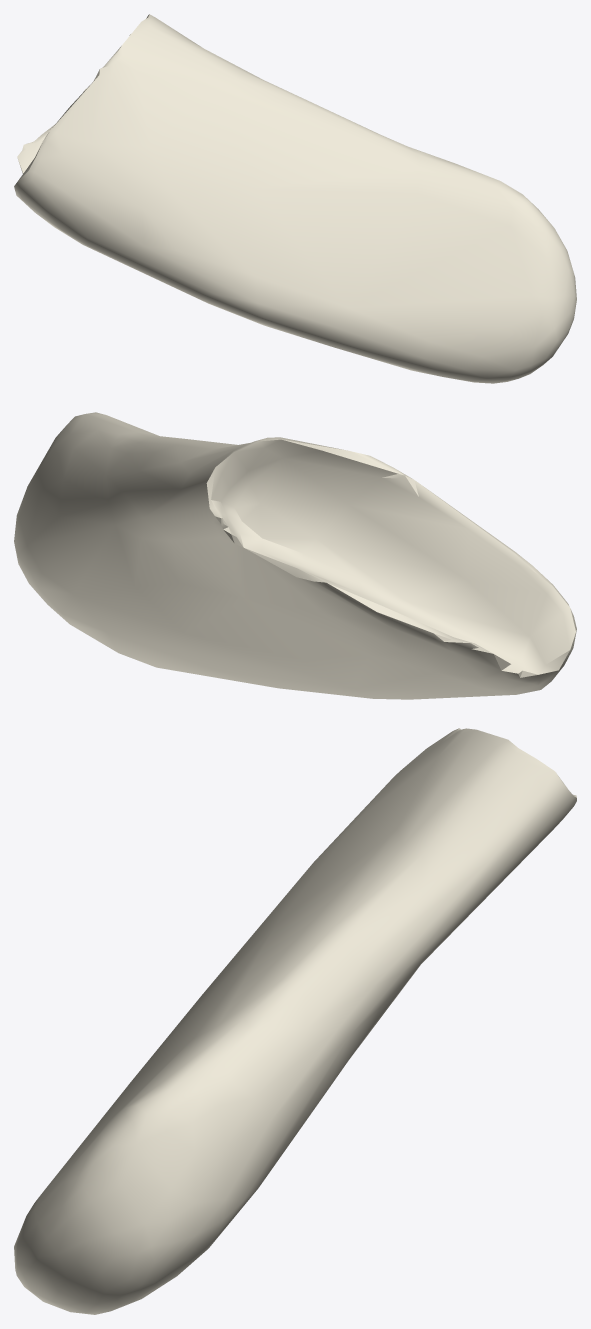
File: fma7875_fj3333.glb
The picture shows the model from 3 angles, top to bottom: view 1: azimuth 30°, elevation 25°; view 2: azimuth 150°, elevation 25°; view 3: azimuth 270°, elevation 25°; orthographic projection. The views are drawn at different scales.
Visible parts, largest first — view 1: FMA7875_FJ3333; view 2: FMA7875_FJ3333; view 3: FMA7875_FJ3333.
Part boxes in pixels (box(x1,y1,x2,y2)): FMA7875_FJ3333: box(14, 14, 576, 383); FMA7875_FJ3333: box(14, 412, 576, 699); FMA7875_FJ3333: box(14, 728, 576, 1314).
Bounding box in the file's own units: 0.0367 × 0.0233 × 0.0286.
